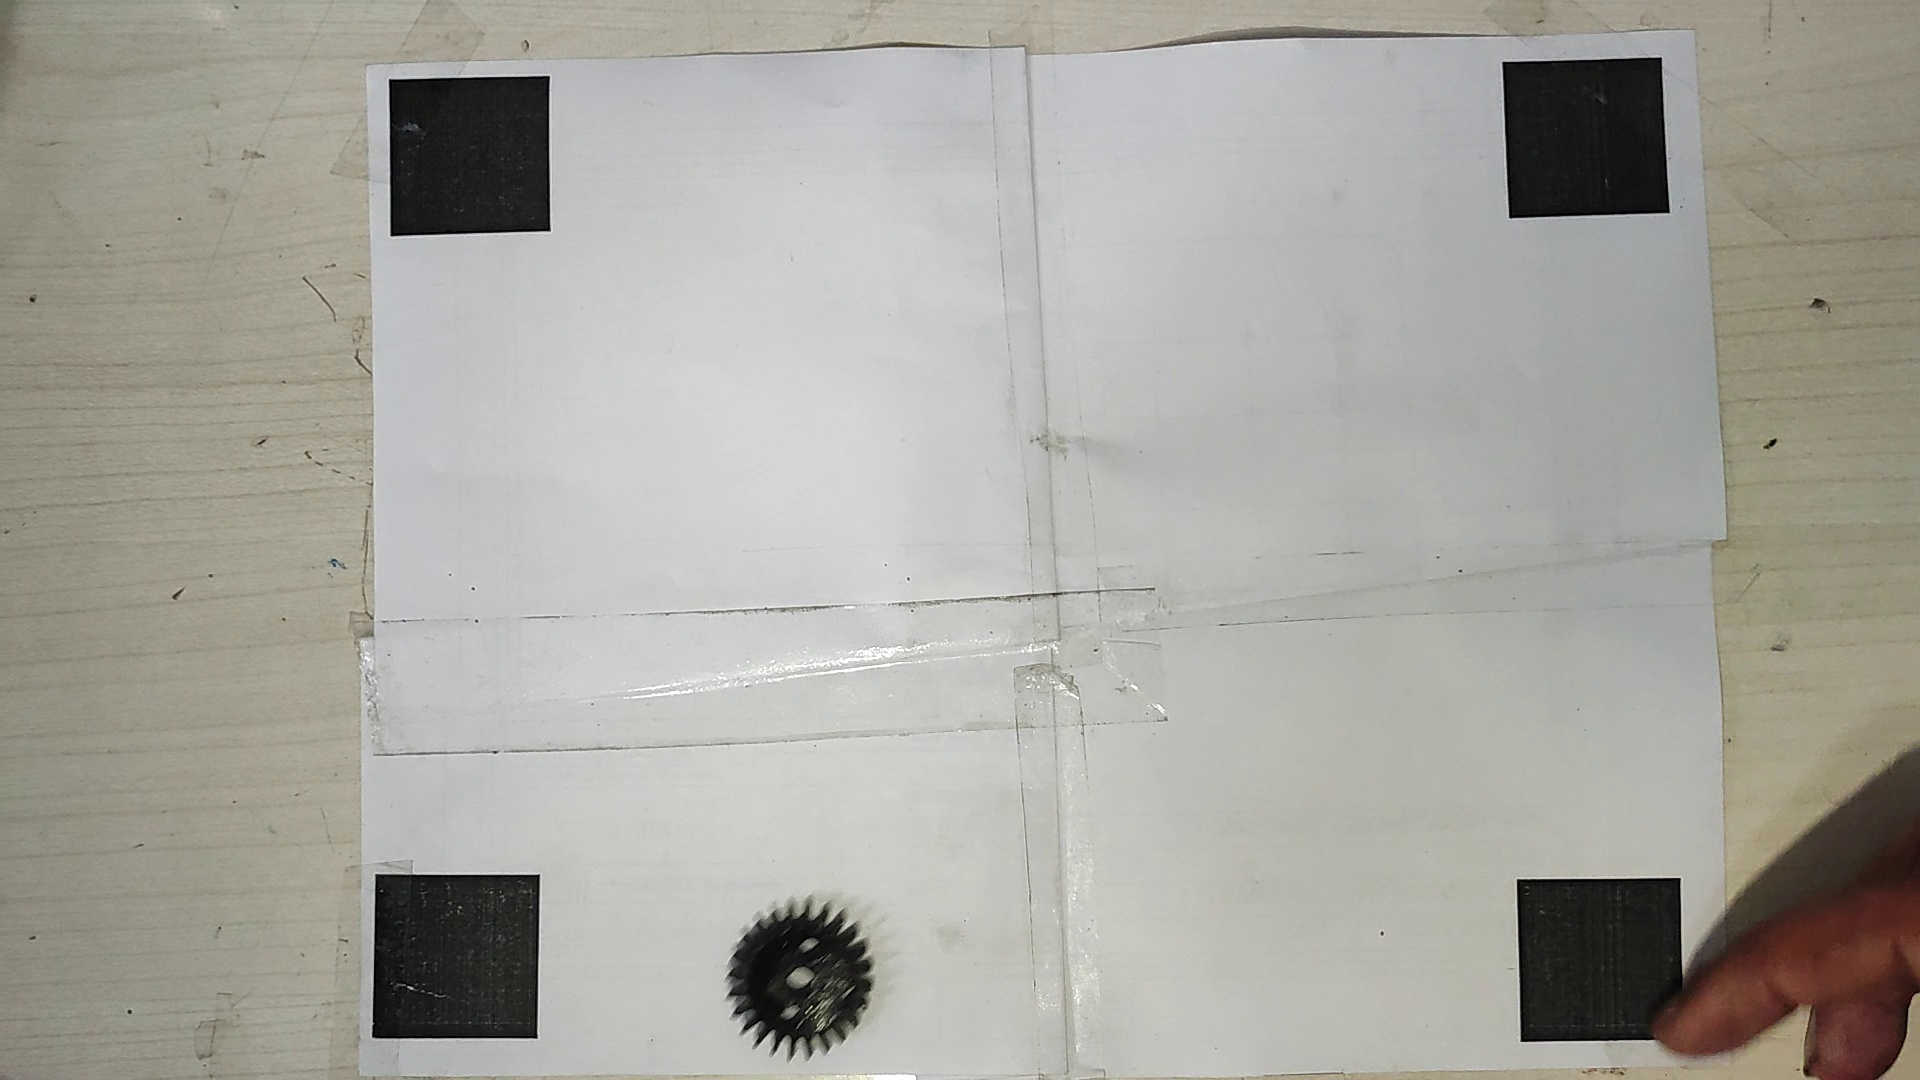Gear: (723, 891, 876, 1062)
